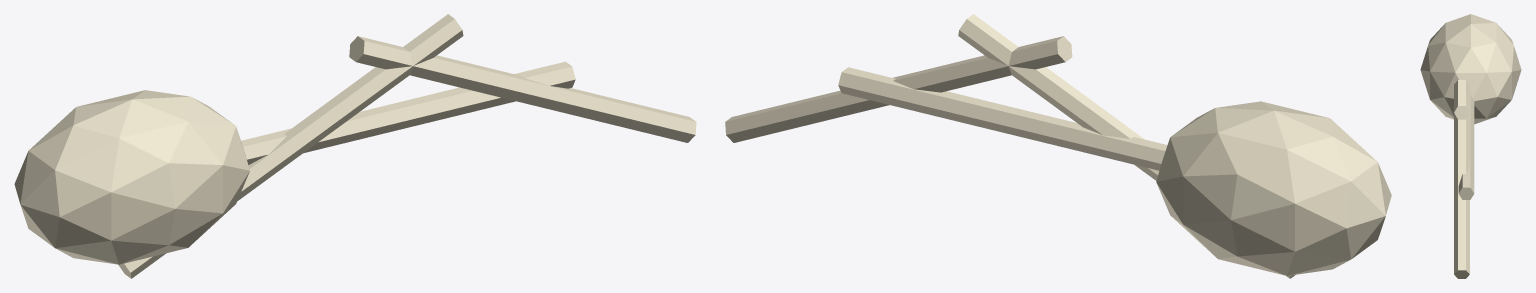
The model's file is desert_sun_baked_bones.glb.
3 renders of one model, left to right at view 1: azimuth 30°, elevation 25°; view 2: azimuth 150°, elevation 25°; view 3: azimuth 270°, elevation 25°, orthographic. The views are drawn at different scales.
Visible parts, largest first — view 1: skull_proxy, rib_3, rib_1, rib_2; view 2: skull_proxy, rib_2, rib_3, rib_1; view 3: skull_proxy, rib_3, rib_2, rib_1.
Part boxes in pixels (x1,y1,x2,y2): skull_proxy: (14, 90, 249, 264); rib_3: (349, 36, 696, 142); rib_1: (118, 14, 463, 278); rib_2: (241, 61, 575, 164); skull_proxy: (1156, 101, 1391, 275); rib_2: (838, 67, 1167, 170); rib_3: (725, 36, 1072, 142); rib_1: (958, 14, 1295, 278); skull_proxy: (1420, 14, 1521, 124); rib_3: (1454, 80, 1469, 278); rib_2: (1458, 94, 1474, 199); rib_1: (1454, 106, 1469, 119).
Bounding box in the file's own units: 2 × 0.5198 × 0.448.
